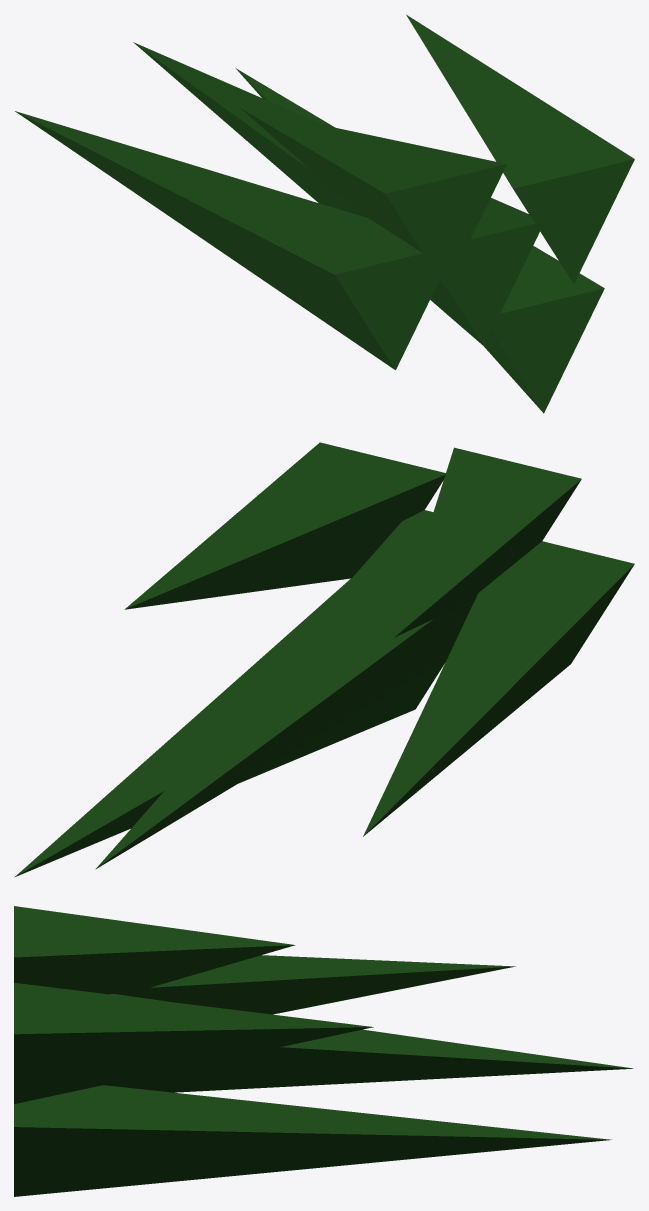
File: Grass 2.fbx
The picture shows the model from 3 angles, top to bottom: view 1: azimuth 30°, elevation 25°; view 2: azimuth 150°, elevation 25°; view 3: azimuth 270°, elevation 25°; orthographic projection. The views are drawn at different scales.
Visible parts, largest first — view 1: Grass 2; view 2: Grass 2; view 3: Grass 2.
Part boxes in pixels (x1,y1,x2,y2): Grass 2: (15,14,634,413); Grass 2: (14,442,634,877); Grass 2: (14,906,633,1196).
Size of the model in its own units: 23.5 by 17.55 by 44.1.
